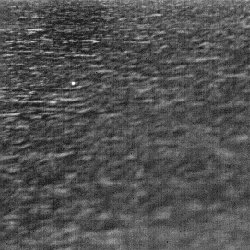dim target: (70, 81, 76, 86)
